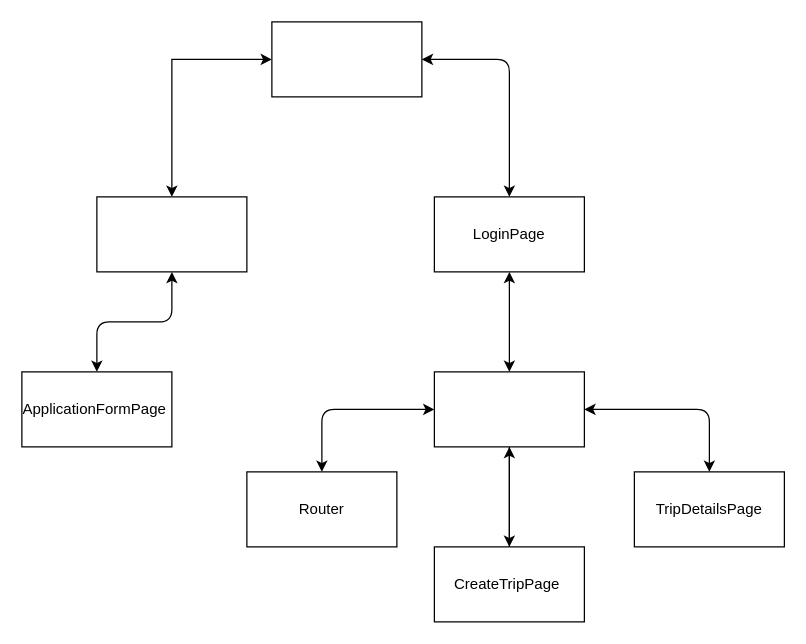
Image size: 806x644. Some labels were removed from this diagram. The shapes that lost their labels are listed below. From the top down, each one's box as (x1, y1, x2, y2) in pixels, then its label:
(271, 21, 422, 97): HomePage
(96, 196, 247, 272): ListTripPage
(433, 371, 584, 447): AdmPanel
